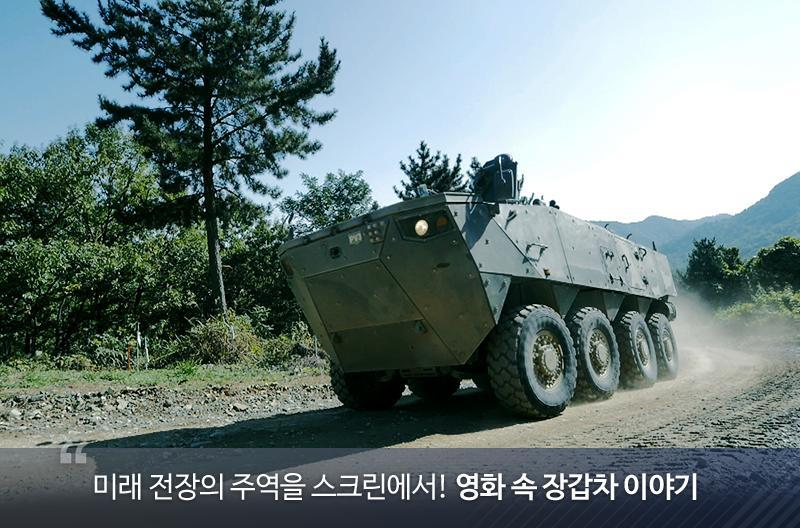MIL_IFV: (278, 153, 679, 418)
